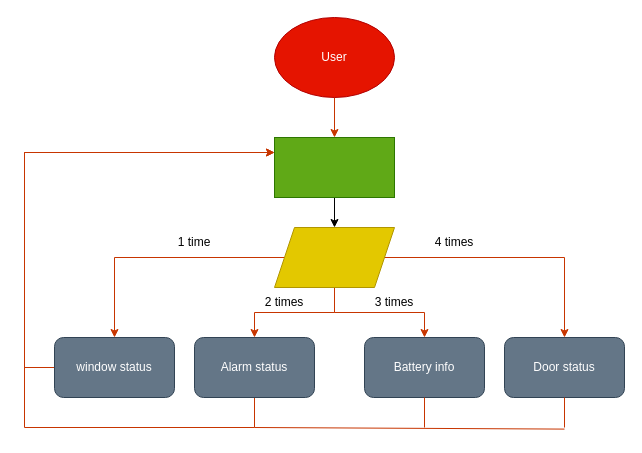
The diagram is 642 pixels wide and 453 high, and some of its shapes have lost their labels. Here are the shapes that lost their labels. From the top down, the centre of each, then its label:
point (334, 167): Button
point (334, 257): Number of Times key pressed
